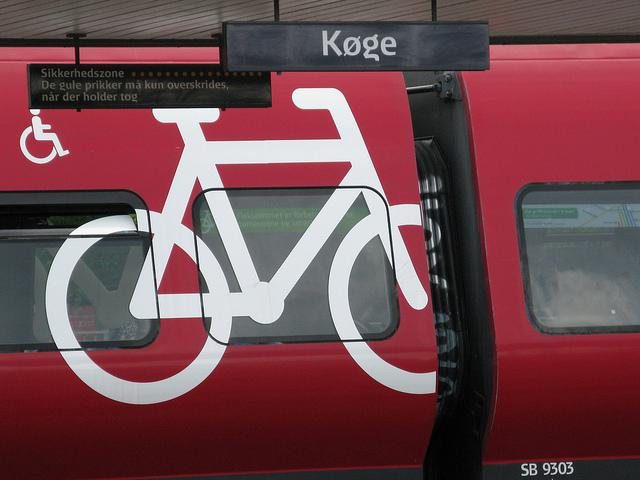Train: (5, 23, 638, 477)
